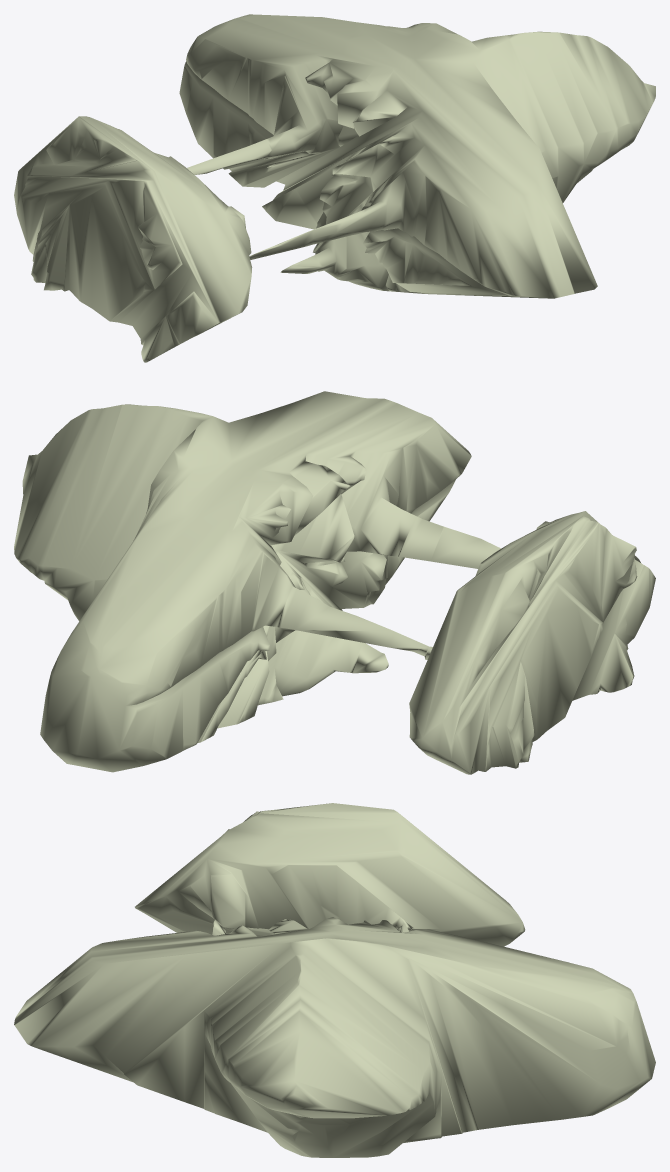
Rendered from loopy.obj.
The picture shows the model from 3 angles, top to bottom: view 1: azimuth 30°, elevation 25°; view 2: azimuth 150°, elevation 25°; view 3: azimuth 270°, elevation 25°; orthographic projection. The views are drawn at different scales.
Visible parts, largest first — view 1: Cube1_s_0.svg_s_6.svg_s_9.svg_s_12.svg_s_17.svg_s_5.svg_s_7.svg_; view 2: Cube1_s_0.svg_s_6.svg_s_9.svg_s_12.svg_s_17.svg_s_5.svg_s_7.svg_; view 3: Cube1_s_0.svg_s_6.svg_s_9.svg_s_12.svg_s_17.svg_s_5.svg_s_7.svg_.
Part boxes in pixels (x1,y1,x2,y2): Cube1_s_0.svg_s_6.svg_s_9.svg_s_12.svg_s_17.svg_s_5.svg_s_7.svg_: (14, 14, 655, 362); Cube1_s_0.svg_s_6.svg_s_9.svg_s_12.svg_s_17.svg_s_5.svg_s_7.svg_: (14, 391, 655, 774); Cube1_s_0.svg_s_6.svg_s_9.svg_s_12.svg_s_17.svg_s_5.svg_s_7.svg_: (14, 803, 655, 1157).
Bounding box in the file's own units: 1.21 × 0.4816 × 1.33.
